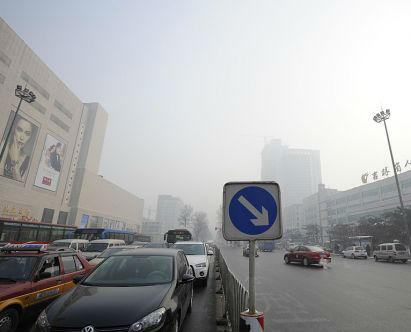bus: (73, 226, 137, 256), (163, 226, 193, 256)
car: (35, 246, 195, 332), (1, 242, 101, 332), (165, 240, 213, 289), (86, 245, 143, 276), (80, 237, 127, 266), (282, 244, 330, 266), (46, 238, 90, 260), (372, 241, 407, 262), (340, 245, 367, 259), (241, 243, 260, 257)
